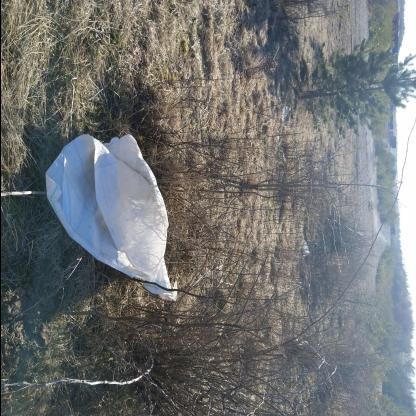diger: (44, 132, 179, 302)
